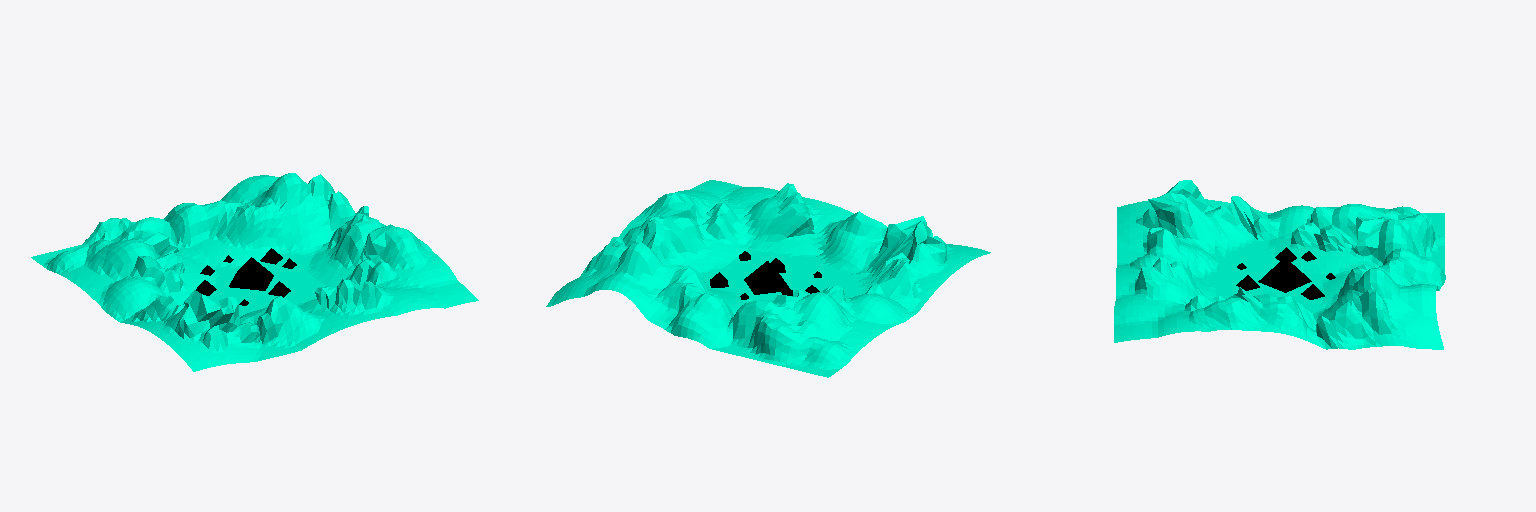
The picture shows the model from 3 angles: view 1: azimuth 30°, elevation 25°; view 2: azimuth 150°, elevation 25°; view 3: azimuth 270°, elevation 25°; orthographic projection.
Visible parts, largest first — view 1: pPlane1, pPyramid1; view 2: pPlane1, pPyramid1; view 3: pPlane1, pPyramid1.
Part boxes in pixels (left/top/right/bottom): pPlane1: left=31, top=173, right=478, bottom=371; pPyramid1: left=229, top=257, right=273, bottom=290; pPlane1: left=546, top=180, right=990, bottom=377; pPyramid1: left=744, top=261, right=788, bottom=294; pPlane1: left=1114, top=180, right=1445, bottom=349; pPyramid1: left=1258, top=257, right=1311, bottom=292.
Bounding box in the file's own units: 73.8 × 13.42 × 73.6.